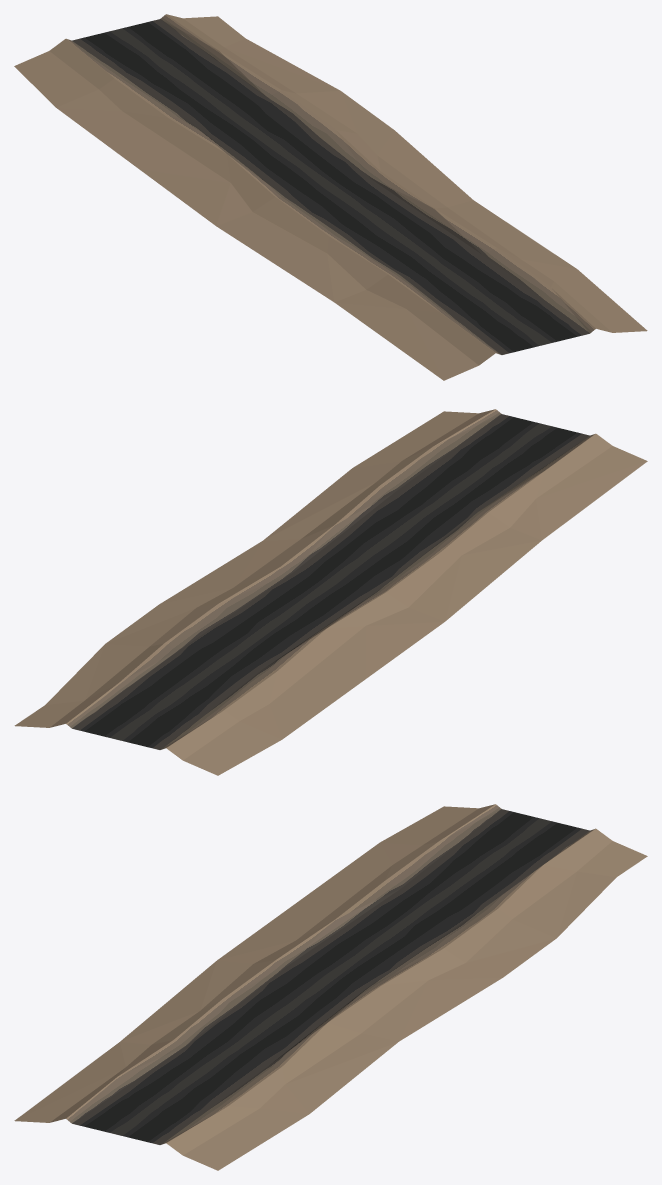
Rendered from SM_Env_Road_01.glb.
The picture shows the model from 3 angles, top to bottom: view 1: azimuth 30°, elevation 25°; view 2: azimuth 150°, elevation 25°; view 3: azimuth 330°, elevation 25°; orthographic projection.
Visible parts, largest first — view 1: SM_Env_Road_01; view 2: SM_Env_Road_01; view 3: SM_Env_Road_01.
Part boxes in pixels (box(x1,y1,x2,y2)): SM_Env_Road_01: box(14, 14, 647, 380); SM_Env_Road_01: box(14, 409, 647, 775); SM_Env_Road_01: box(14, 804, 647, 1170).
Size of the model in its own units: 15.6 by 1.1 by 50.
Materials: 1 (1 with a texture image).
